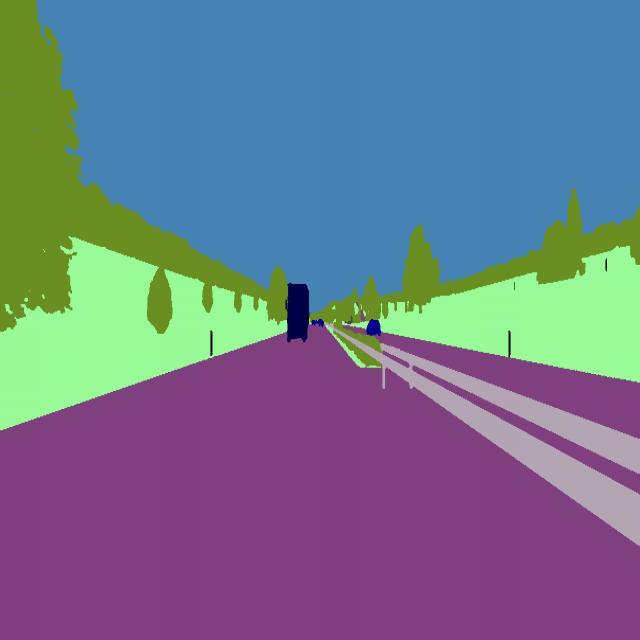safe: (283, 280, 312, 347), (362, 316, 384, 338), (316, 315, 327, 330)
